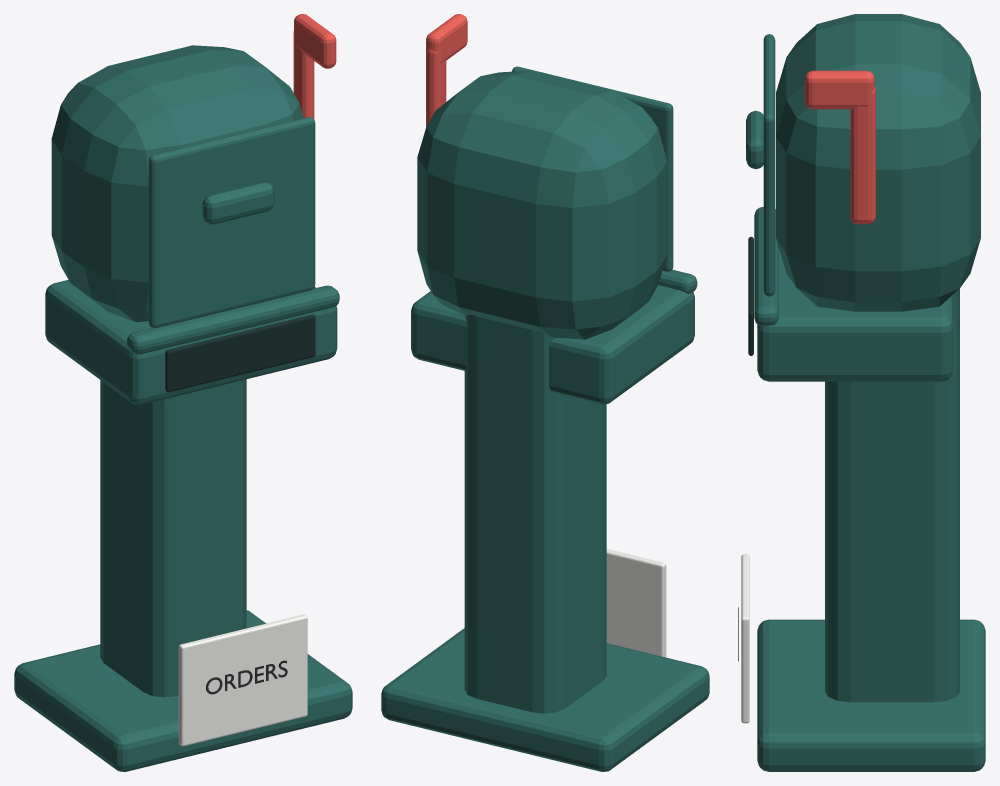
The model's file is orders-drop-station.glb.
3 renders of one model, left to right at view 1: azimuth 30°, elevation 25°; view 2: azimuth 150°, elevation 25°; view 3: azimuth 270°, elevation 25°, orthographic. The views are drawn at different scales.
Parts seen in each view (by area): view 1: Tapered central column, Rounded upper mailbox shell, Curved front door, Wide weighted foot, White orders sign at foot, Lower mailbox tray, Lower open recess, Front tray lip, Front door pull, Side flag tip, Side flag arm, ORDERS lettering; view 2: Rounded upper mailbox shell, Tapered central column, Wide weighted foot, Lower mailbox tray, White orders sign at foot, Curved front door, Side flag tip, Side flag arm, Front tray lip; view 3: Rounded upper mailbox shell, Tapered central column, Wide weighted foot, Lower mailbox tray, Curved front door, Side flag arm, Side flag tip, Front tray lip, White orders sign at foot, Front door pull, Lower open recess.
Boxes of the visible parts, <box> form: Tapered central column: <box>100,379,246,697</box>; Rounded upper mailbox shell: <box>51,45,303,322</box>; Curved front door: <box>148,117,315,328</box>; Wide weighted foot: <box>14,610,352,771</box>; White orders sign at foot: <box>178,614,307,746</box>; Lower mailbox tray: <box>45,280,337,404</box>; Lower open recess: <box>165,314,315,392</box>; Front tray lip: <box>127,285,339,354</box>; Front door pull: <box>202,182,274,224</box>; Side flag tip: <box>294,14,336,68</box>; Side flag arm: <box>293,31,314,119</box>; ORDERS lettering: <box>206,660,287,694</box>; Rounded upper mailbox shell: <box>417,70,667,339</box>; Tapered central column: <box>464,314,606,713</box>; Wide weighted foot: <box>381,628,709,771</box>; Lower mailbox tray: <box>411,285,694,404</box>; White orders sign at foot: <box>606,549,666,657</box>; Curved front door: <box>512,66,673,271</box>; Side flag tip: <box>426,14,467,63</box>; Side flag arm: <box>426,48,446,126</box>; Front tray lip: <box>658,269,697,293</box>; Rounded upper mailbox shell: <box>776,14,980,311</box>; Tapered central column: <box>825,288,959,702</box>; Wide weighted foot: <box>757,619,985,771</box>; Lower mailbox tray: <box>757,248,952,381</box>; Curved front door: <box>763,34,775,296</box>; Side flag arm: <box>850,87,875,224</box>; Side flag tip: <box>804,70,874,109</box>; Front tray lip: <box>754,207,778,326</box>; White orders sign at foot: <box>741,554,749,723</box>; Front door pull: <box>746,110,763,169</box>; Lower open recess: <box>748,236,753,355</box>.
Size of the model in its own units: 0.633 by 1.66 by 0.5307.
